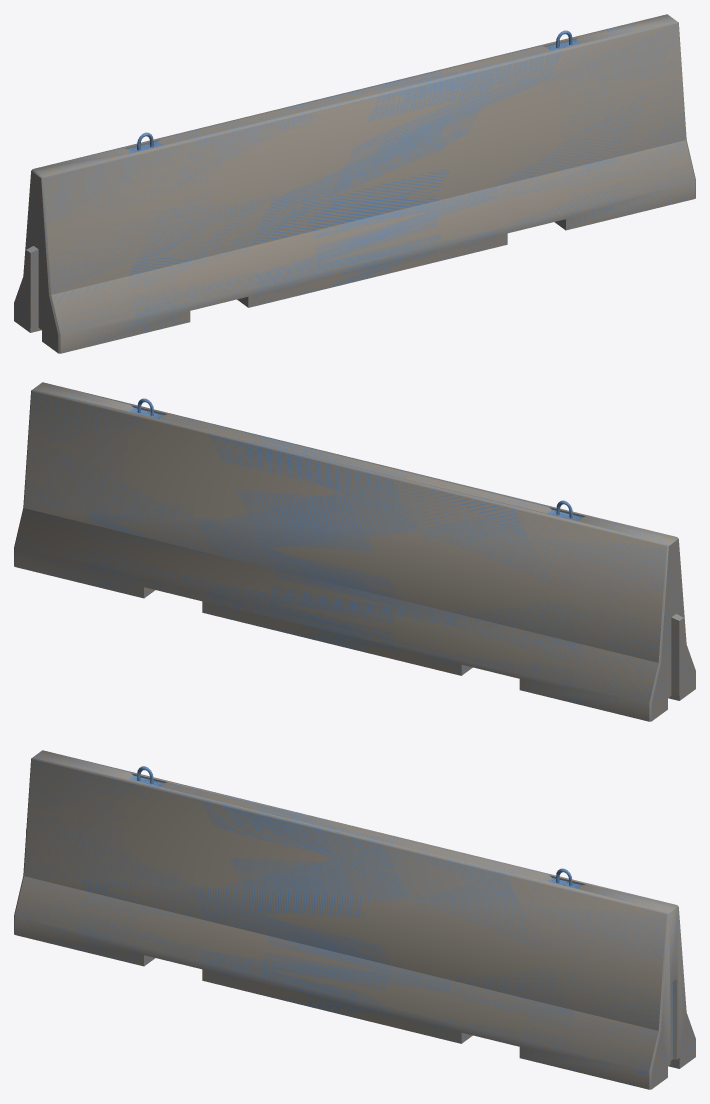
The picture shows the model from 3 angles, top to bottom: view 1: azimuth 30°, elevation 25°; view 2: azimuth 150°, elevation 25°; view 3: azimuth 330°, elevation 25°; orthographic projection.
Visible parts, largest first — view 1: _block_road1; view 2: _block_road1; view 3: _block_road1.
Part boxes in pixels (x1=…): _block_road1: x1=14, y1=14, x2=695, y2=353; _block_road1: x1=14, y1=382, x2=695, y2=721; _block_road1: x1=14, y1=750, x2=695, y2=1089.
Size of the model in its own units: 4.4 by 1.16 by 0.5429.
